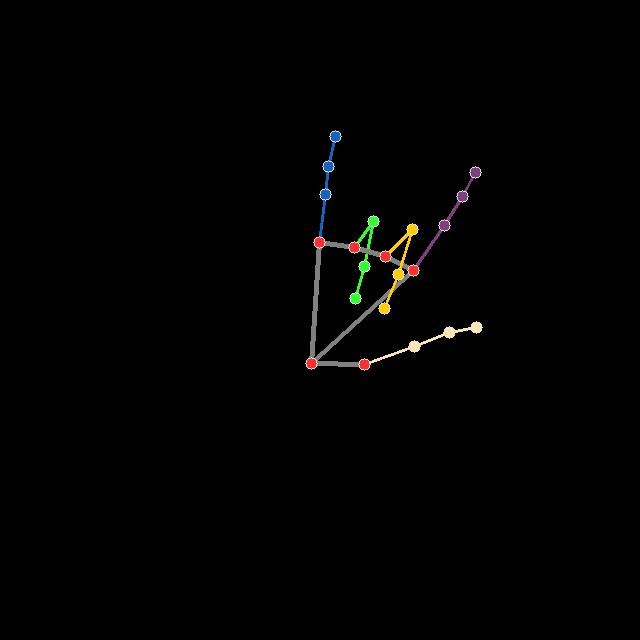spiderman: (304, 131, 490, 374)
